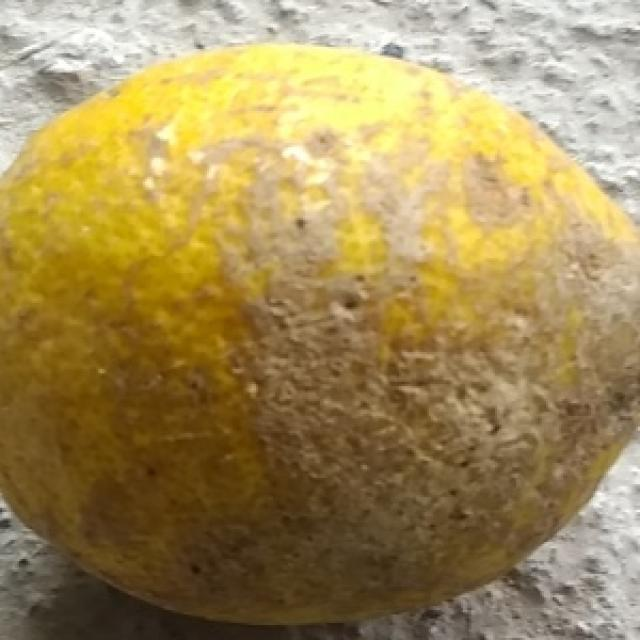overripe: (0, 39, 640, 631)
